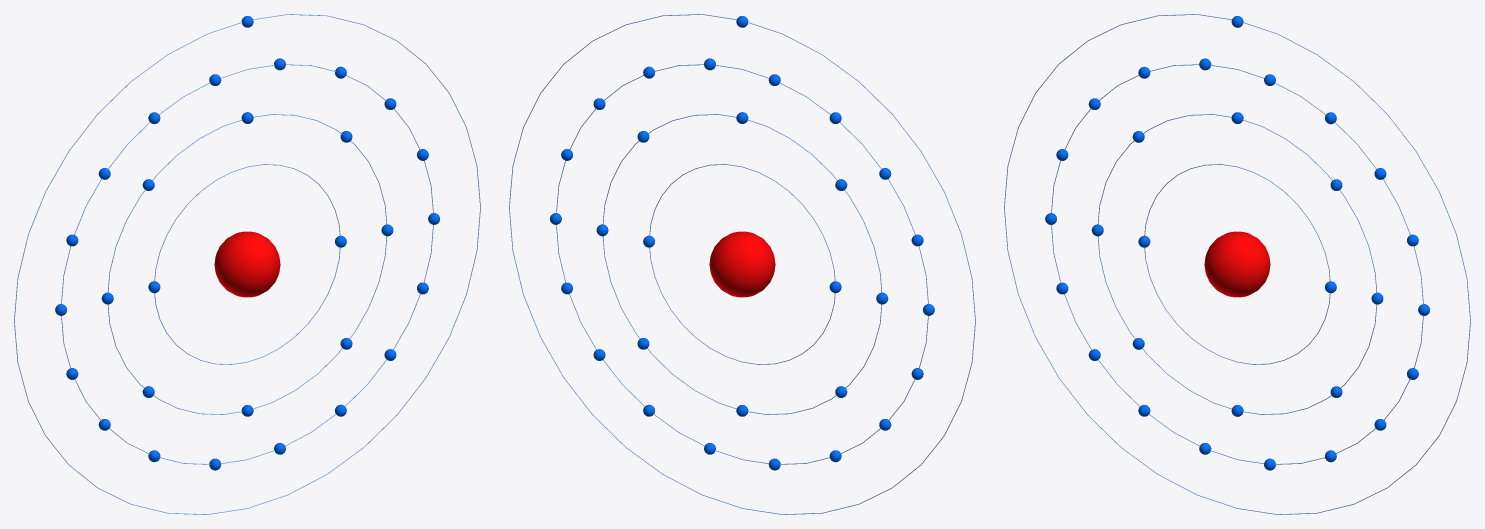
The picture shows the model from 3 angles, left to right: view 1: azimuth 30°, elevation 25°; view 2: azimuth 150°, elevation 25°; view 3: azimuth 330°, elevation 25°; orthographic projection.
Visible parts, largest first — view 1: 구, 도넛_2, 도넛_2_2, 도넛_1, 도넛; view 2: 구, 도넛_2, 도넛_2_2, 도넛_1, 도넛; view 3: 구, 도넛_2, 도넛_2_2, 도넛_1, 도넛.
Part boxes in pixels (box(x1,y1,x2,y2)): 구: box(214, 231, 280, 297); 도넛_2: box(14, 14, 480, 514); 도넛_2_2: box(61, 64, 433, 464); 도넛_1: box(107, 114, 387, 414); 도넛: box(154, 164, 340, 364); 구: box(709, 231, 775, 297); 도넛_2: box(509, 14, 975, 514); 도넛_2_2: box(556, 64, 928, 464); 도넛_1: box(602, 114, 882, 414); 도넛: box(649, 164, 835, 364); 구: box(1204, 231, 1270, 297); 도넛_2: box(1004, 14, 1470, 514); 도넛_2_2: box(1051, 64, 1423, 464); 도넛_1: box(1097, 114, 1377, 414); 도넛: box(1144, 164, 1330, 364).
Bounding box in the file's own units: 401 × 404 × 49.18.
